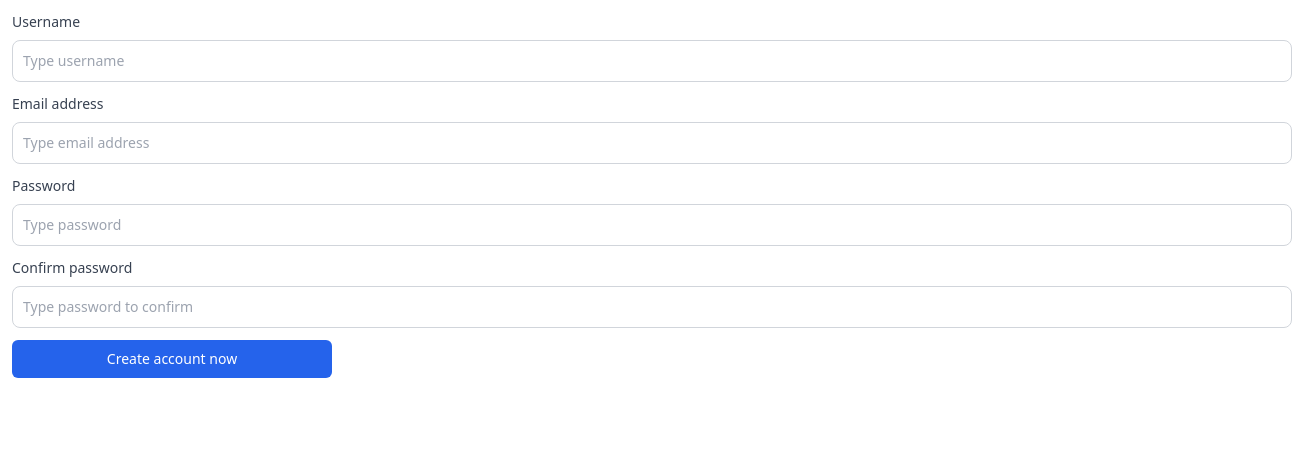
Test: Form sign up component › shows error messages for empty form submission
Click the button "Create account now" at {"x": 172, "y": 359}, box [12,340,332,378]
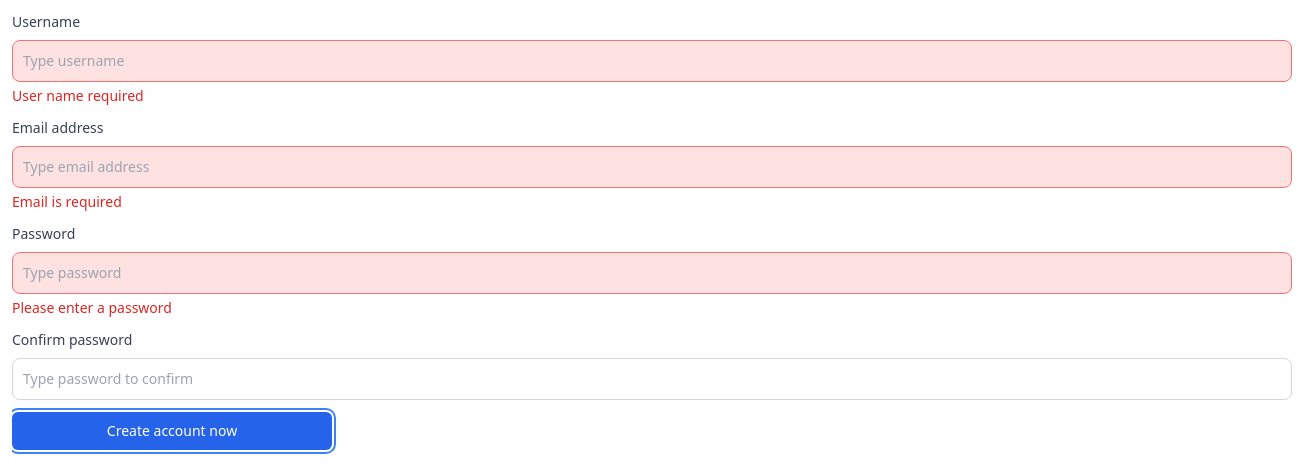
Expected: the text "User name required" is shown, [12,86,144,105]
Expected: the text "Email is required" is shown, [12,192,122,211]
Expected: the text "Please enter a password" is shown, [12,298,172,317]
